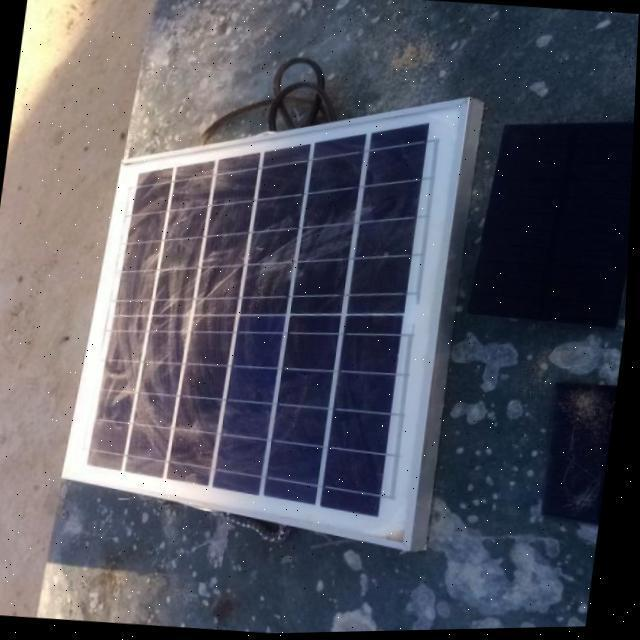Normal Solar Panel: (475, 114, 636, 332)
